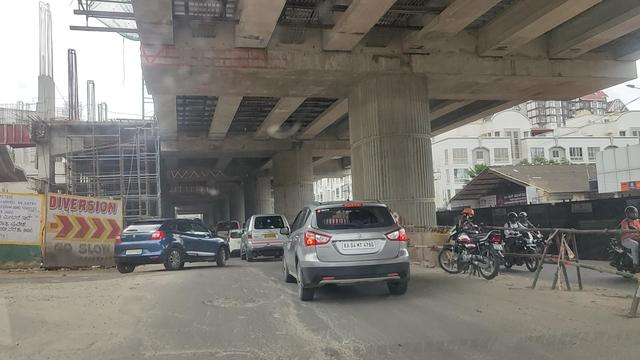LMV: (289, 201, 409, 296), (120, 221, 232, 267), (244, 215, 287, 257)
RoadDamages: (280, 303, 404, 360), (149, 338, 275, 360), (256, 261, 292, 303), (203, 296, 257, 312)
